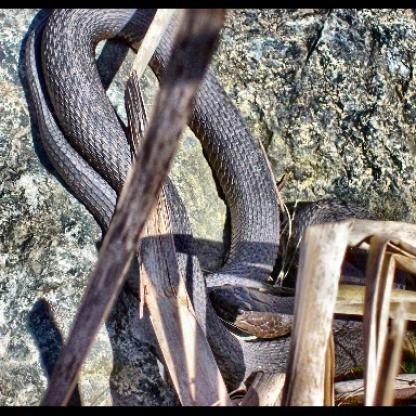Snake: (5, 13, 413, 395)
